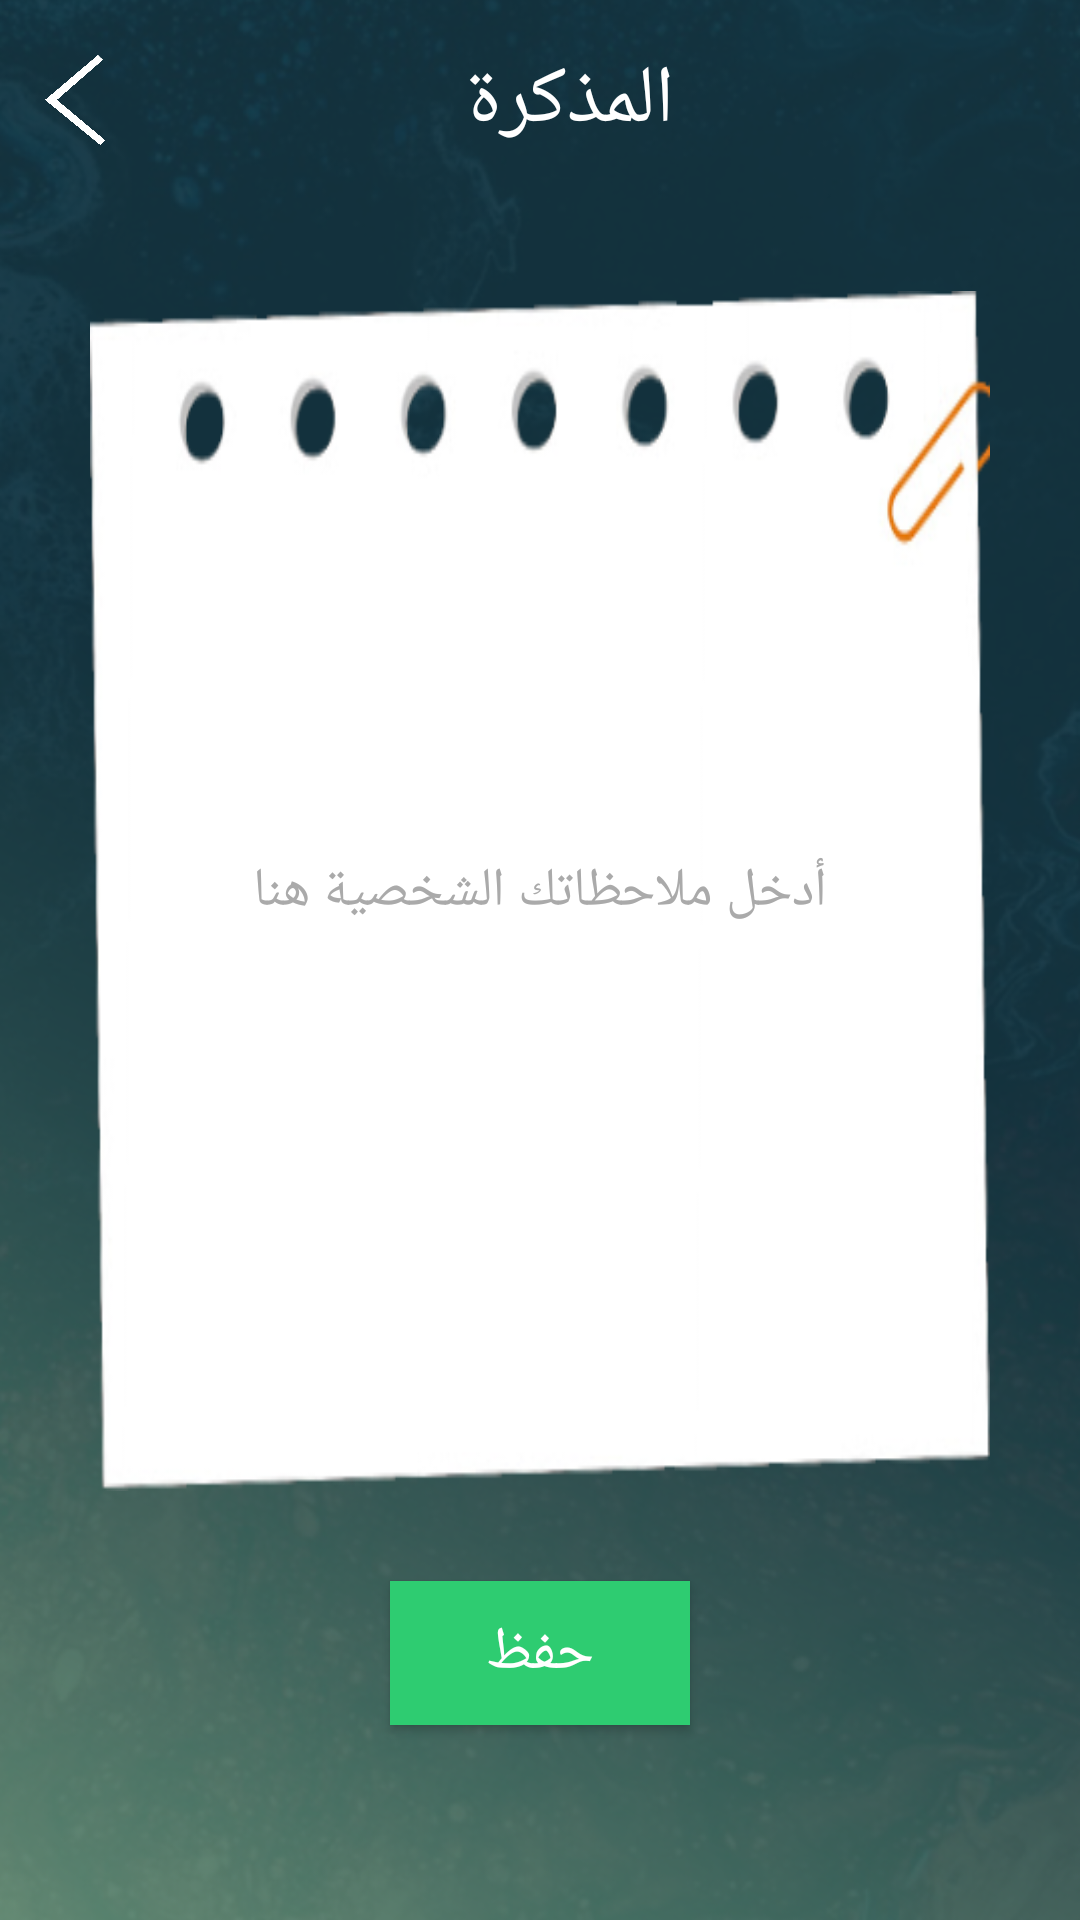

Screen size 1080w x 1920h. Icon name, then its center in pixels as [x,y]:
back: [75,100]
